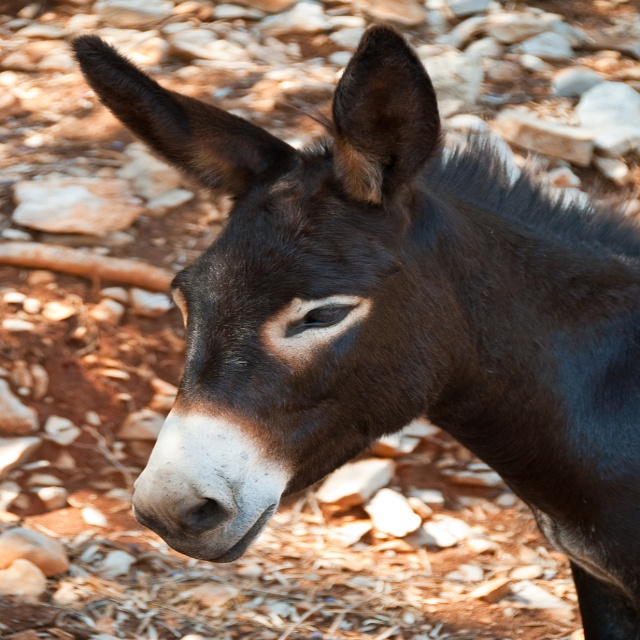Mule: (75, 21, 639, 640), (75, 27, 639, 640)
